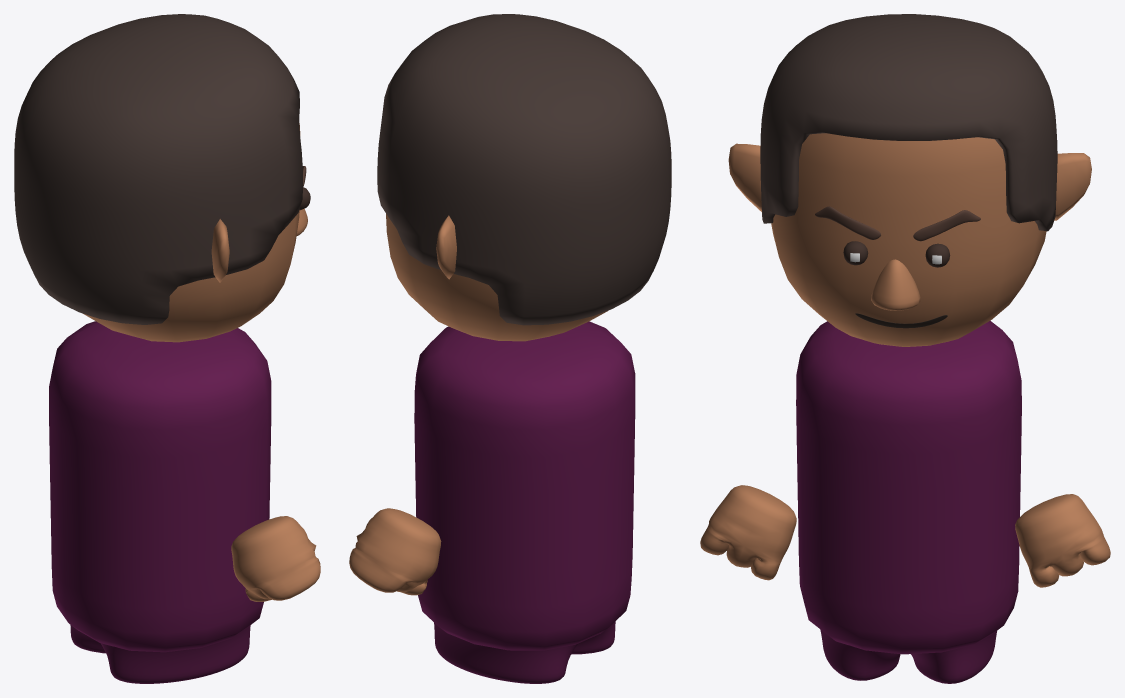
Rendered from balck.glb.
3 views of the same model, side by side, from view 1: azimuth 30°, elevation 25°; view 2: azimuth 150°, elevation 25°; view 3: azimuth 270°, elevation 25° (orthographic). The views are drawn at different scales.
Parts seen in each view (by area): view 1: Plane, Torso, Hands, Pants; view 2: Plane, Torso, Hands, Pants; view 3: Plane, Torso, Hands, Pants.
Boxes of the visible parts, x1,y1,x2,y2 form: Plane: (14, 14, 310, 342); Torso: (49, 321, 271, 652); Hands: (231, 516, 320, 601); Pants: (70, 625, 250, 683); Plane: (377, 14, 671, 341); Torso: (414, 321, 635, 650); Hands: (349, 508, 441, 595); Pants: (434, 621, 615, 683); Plane: (728, 14, 1091, 346); Torso: (796, 320, 1021, 654); Hands: (700, 485, 1110, 587); Pants: (820, 629, 996, 683).
Bounding box in the file's own units: 2.53 × 5.62 × 3.31.
